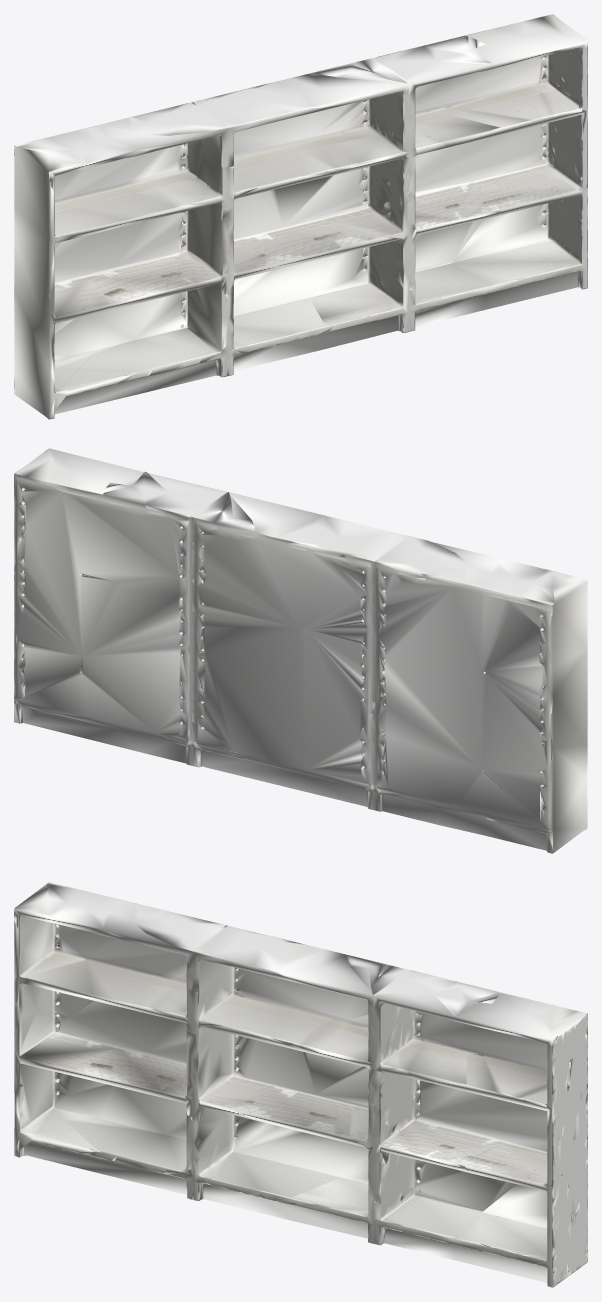
Rendered from meshy-ikea-19581517.glb.
The picture shows the model from 3 angles, top to bottom: view 1: azimuth 30°, elevation 25°; view 2: azimuth 150°, elevation 25°; view 3: azimuth 330°, elevation 25°; orthographic projection.
Visible parts, largest first — view 1: Exact catalog scale: ikea-19581517; view 2: Exact catalog scale: ikea-19581517; view 3: Exact catalog scale: ikea-19581517.
Boxes of the visible parts, x1,y1,x2,y2 form: Exact catalog scale: ikea-19581517: (14,14,587,419); Exact catalog scale: ikea-19581517: (14,448,587,853); Exact catalog scale: ikea-19581517: (14,882,587,1287).
Bounding box in the file's own units: 2.4 × 1.06 × 0.279.
Materials: 1 (1 with a texture image).
